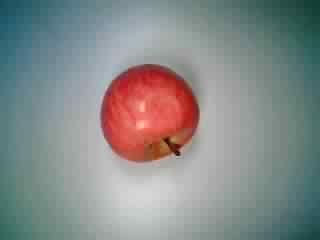apple: (98, 63, 202, 167)
